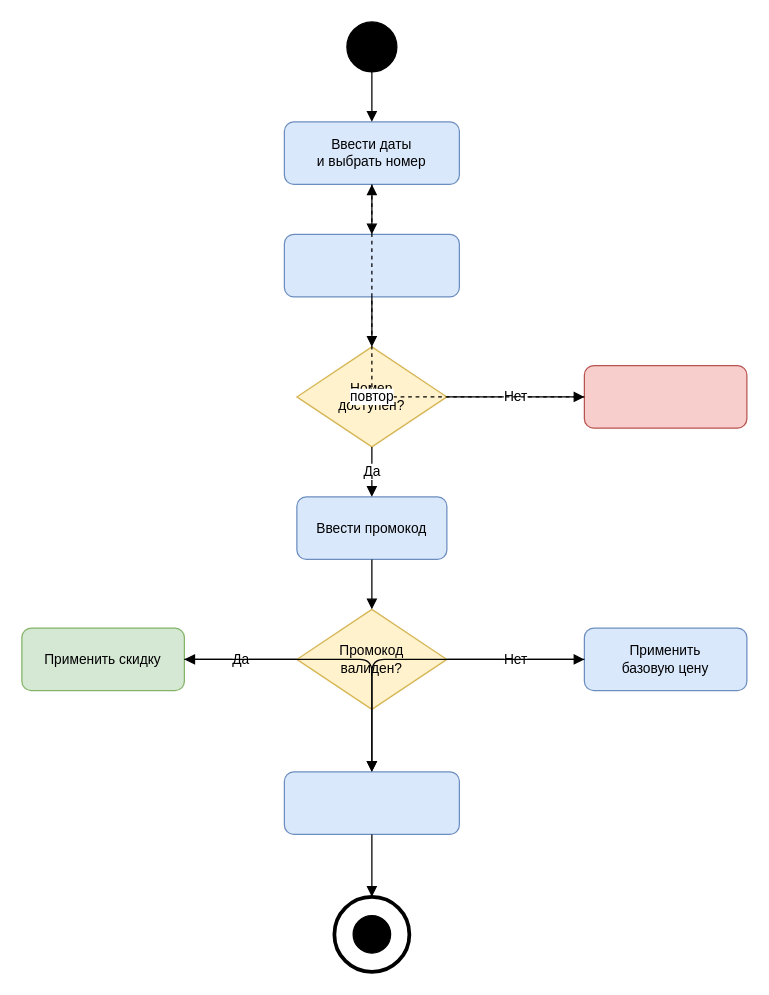
The diagram is 769 pixels wide and 995 high, and some of its shapes have lost their labels. The shapes that lost their labels are listed below. From the top down, each one's box as (x1, y1, x2, y2) in pixels, then its label:
(283, 233, 459, 297): Проверить доступность в PMS
(583, 364, 747, 428): Показать альтернативы
(283, 771, 459, 834): Показать итоговую стоимость
